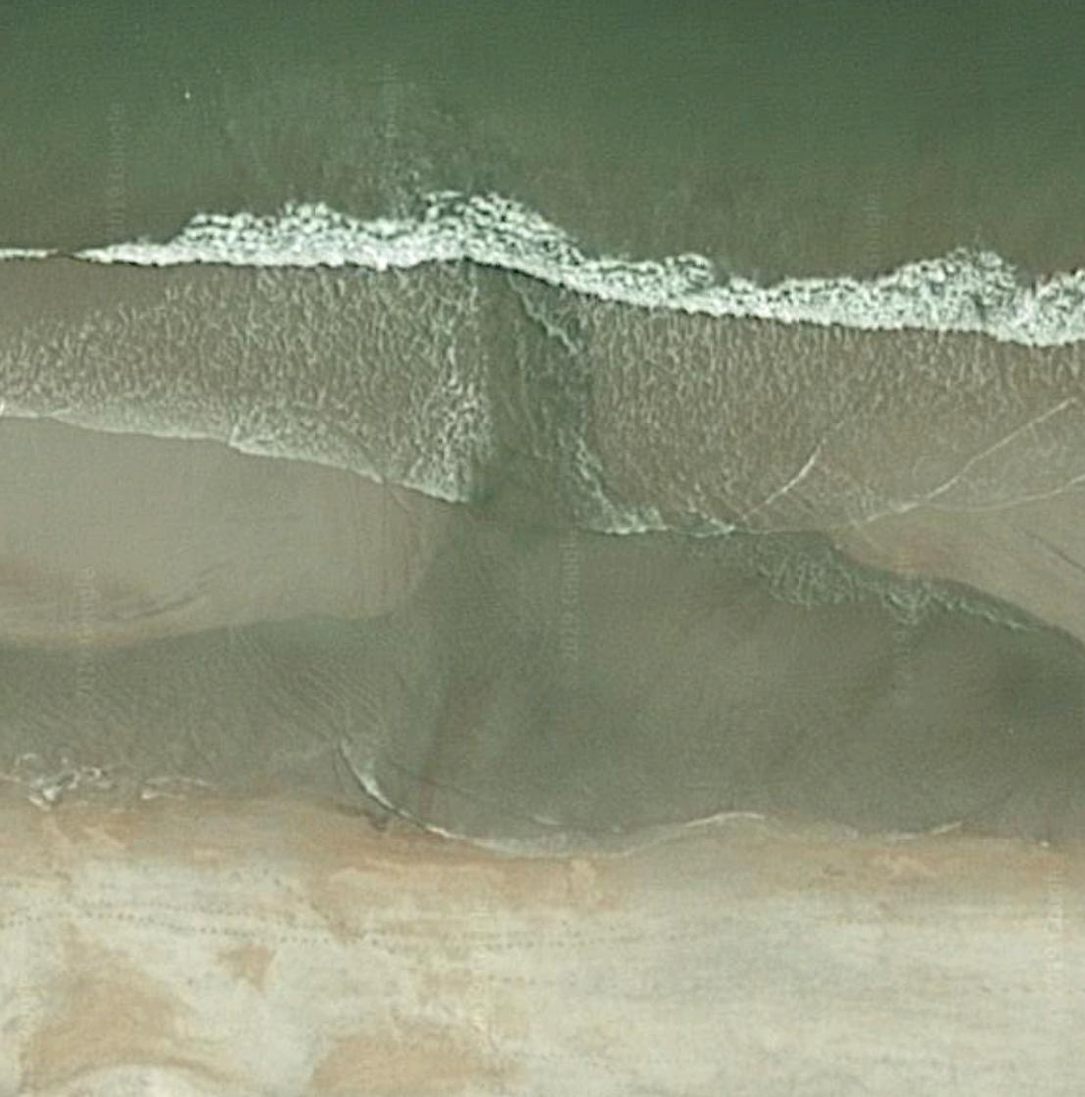rip_current: (380, 166, 655, 541)
